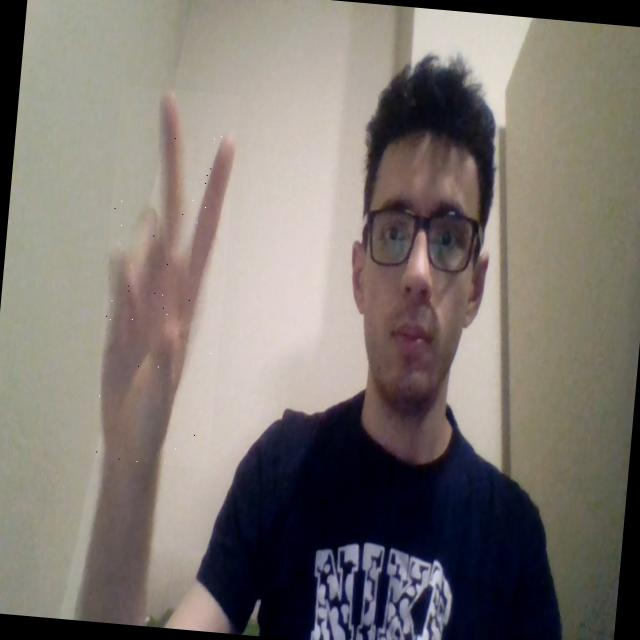no: (89, 85, 240, 468)
